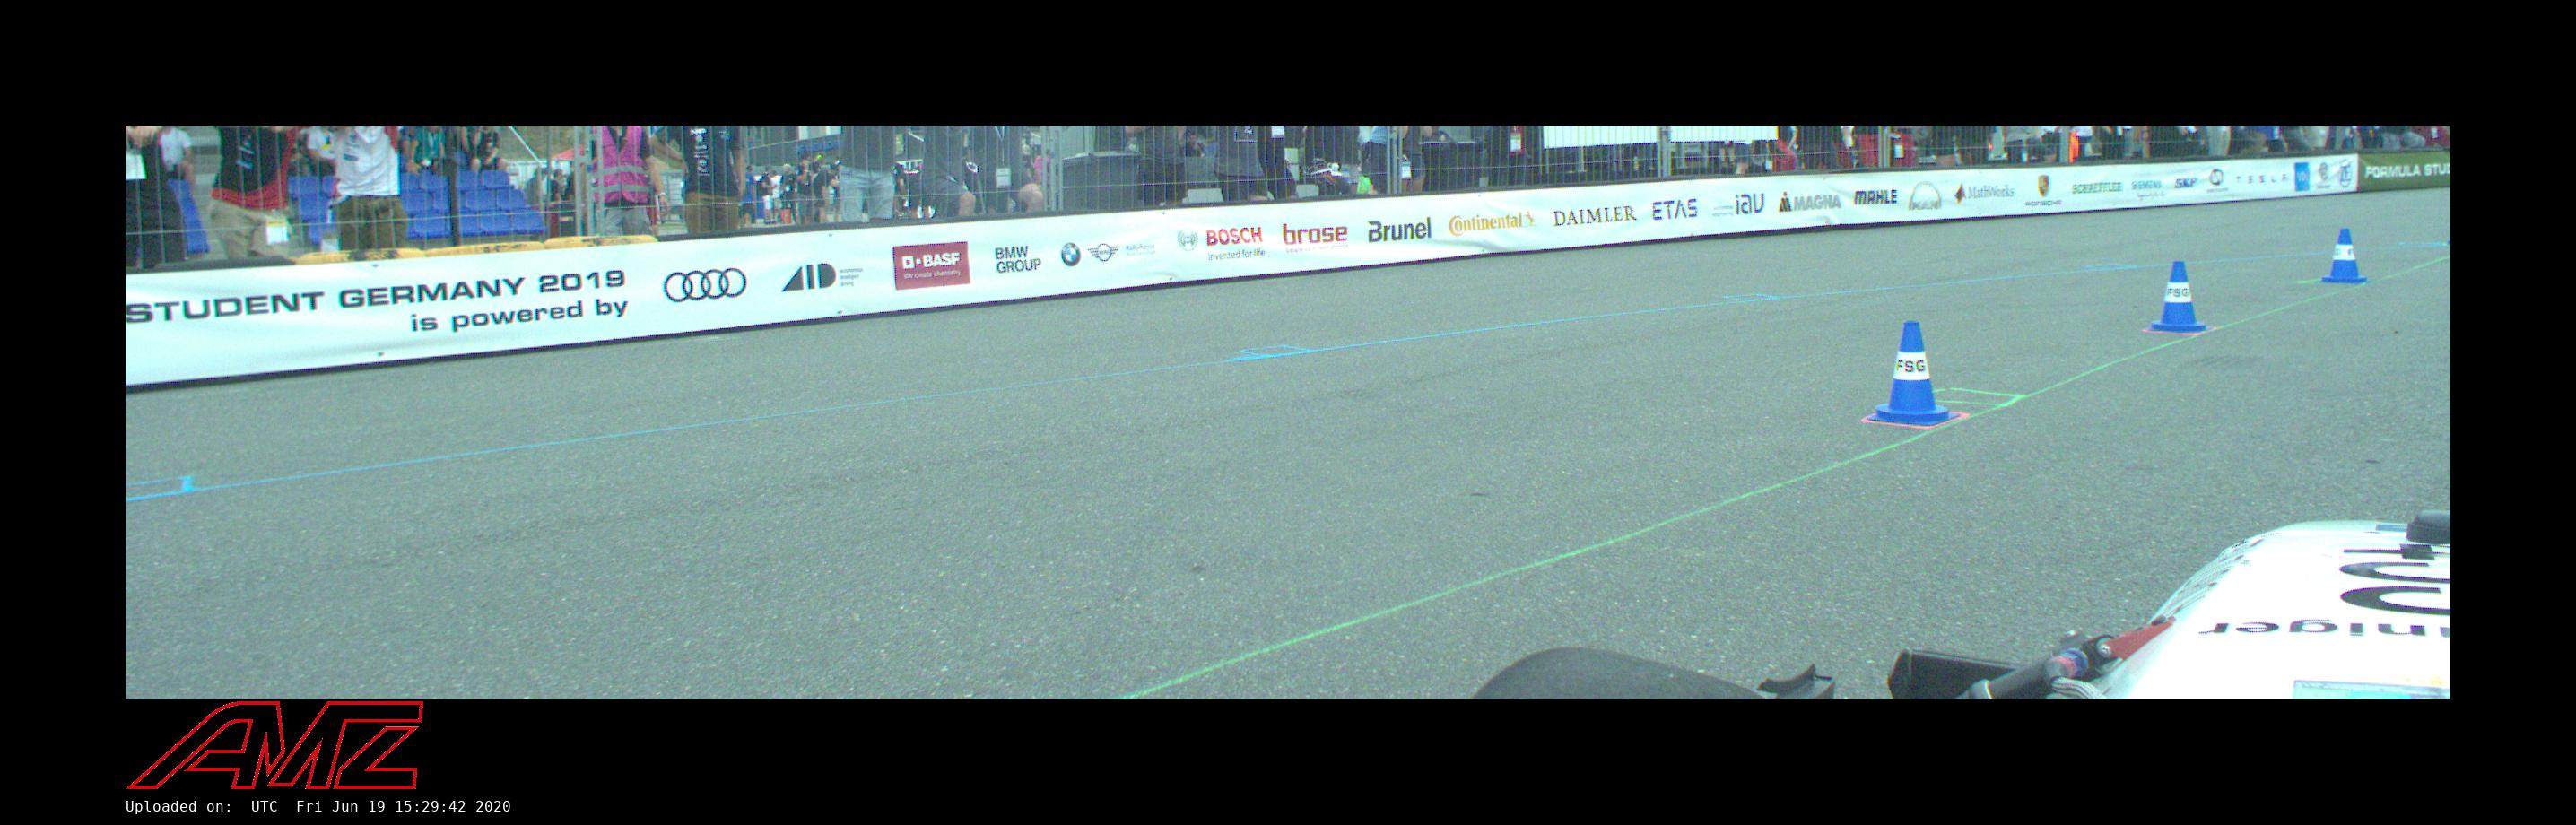blue_cone: (1867, 322, 1960, 425), (2146, 261, 2210, 333), (2318, 229, 2371, 284)
